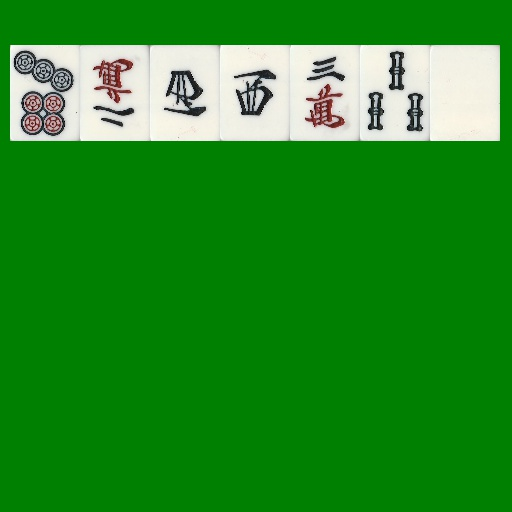2m: (80, 45, 150, 141)
3m: (290, 45, 360, 141)
3s: (360, 45, 430, 141)
7p: (10, 45, 80, 141)
west: (150, 45, 220, 141), (220, 45, 290, 141)
white: (430, 45, 500, 141)
